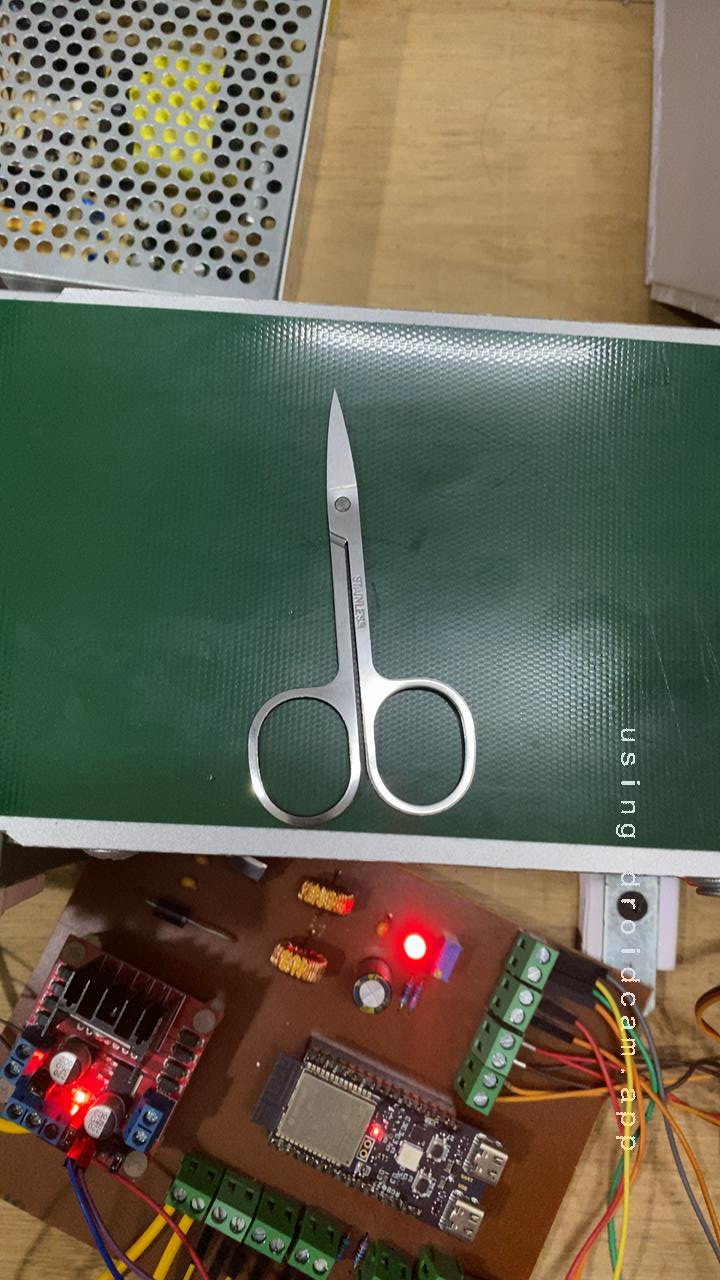scissor: (203, 405, 500, 845)
